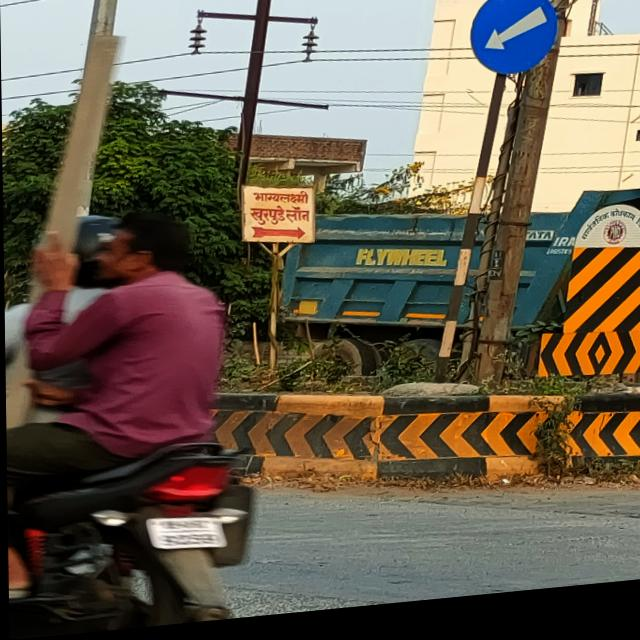COMPULSARY_KEEP_LEFT: (461, 0, 562, 95)
